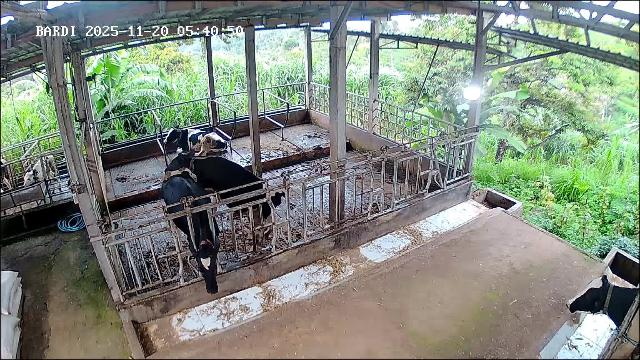mounting: (164, 147, 289, 255)
